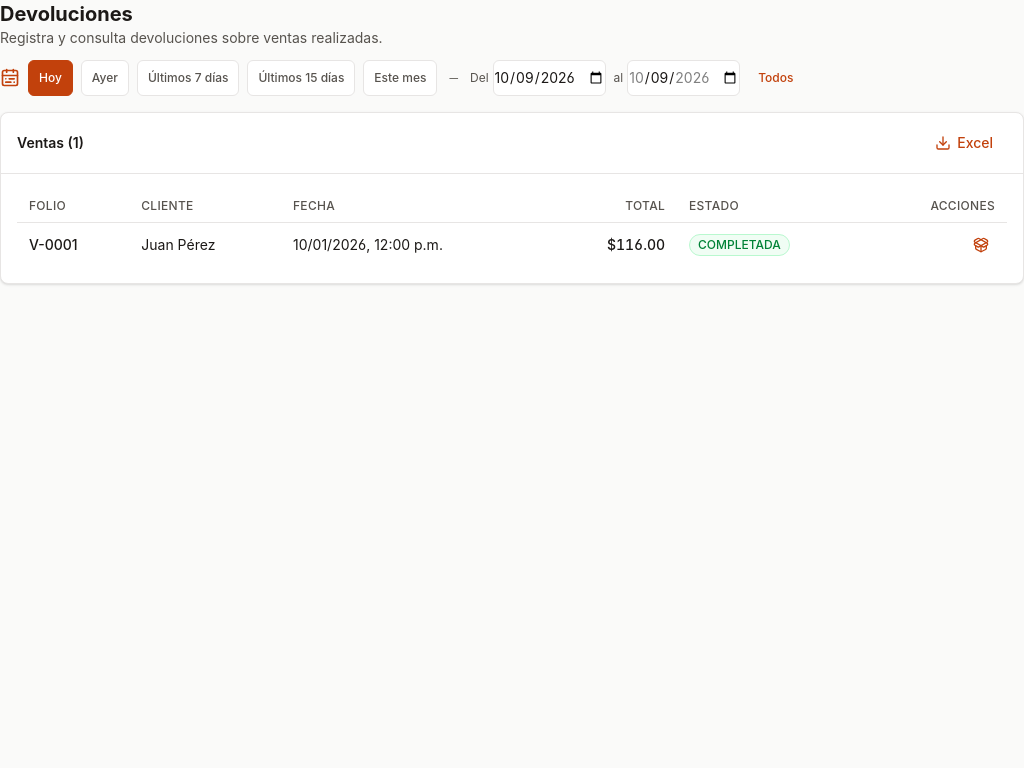
Scenario: DevolucionesPage (profundización) › muestra error cuando el historial falla
Click the button named "Devoluciones de V-0001" at (981, 245), box [967, 231, 995, 259]
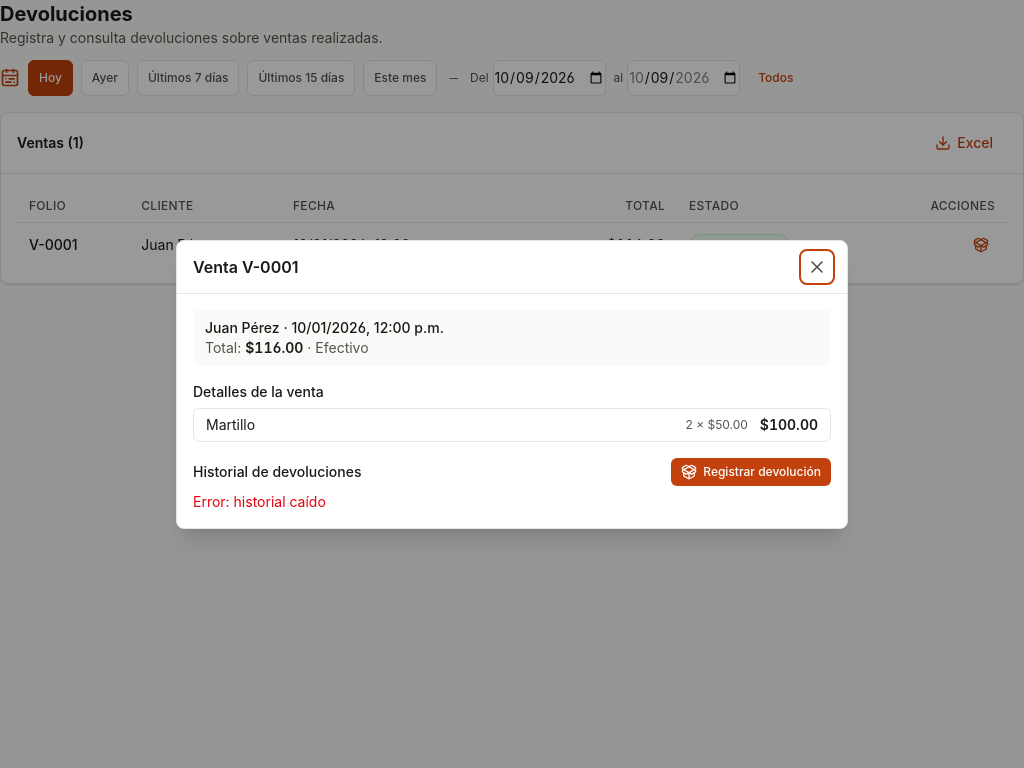
Expected: the text "Error: historial caído" is shown, [193, 492, 326, 510]
